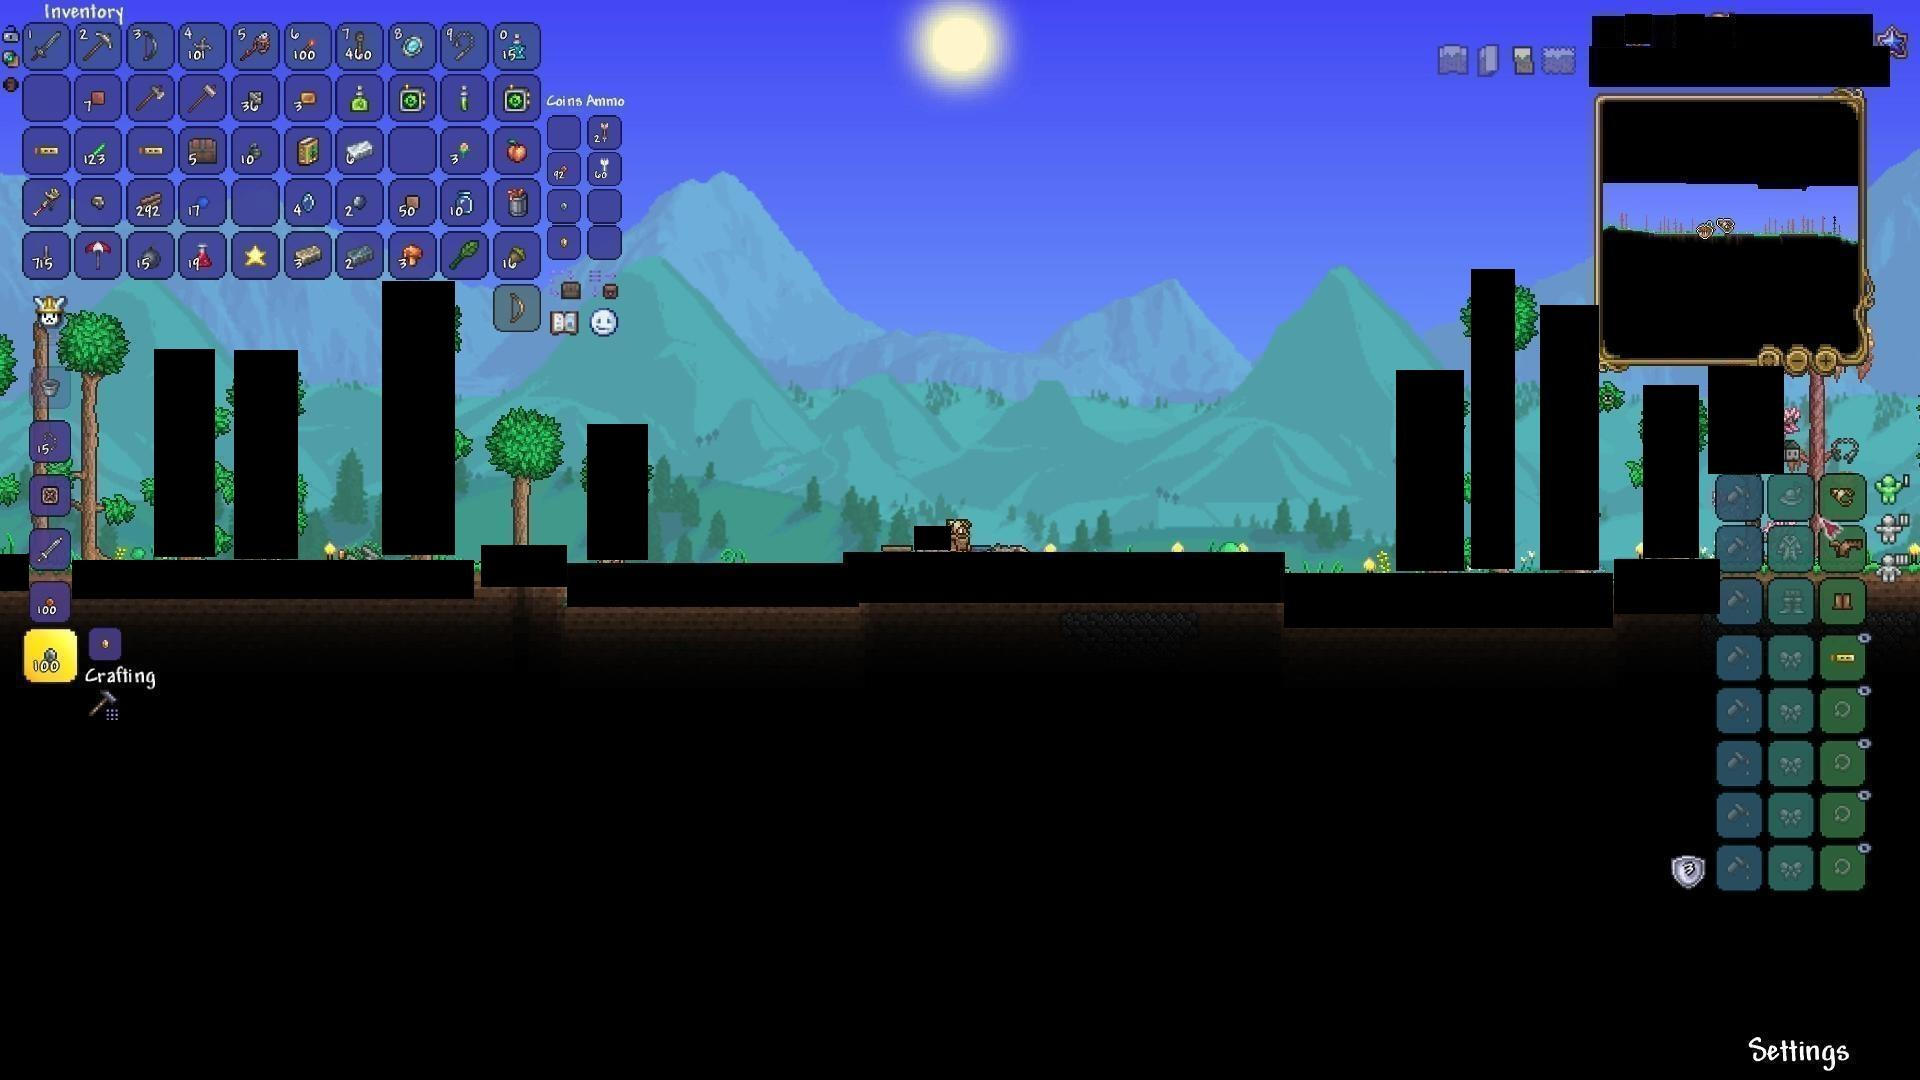helmet: (1836, 537, 1865, 562), (1832, 485, 1857, 508)
legs: (1832, 589, 1858, 615)
slime: (1221, 535, 1244, 556)
tree: (75, 316, 142, 558), (487, 388, 556, 543)
wood: (133, 190, 164, 219)
